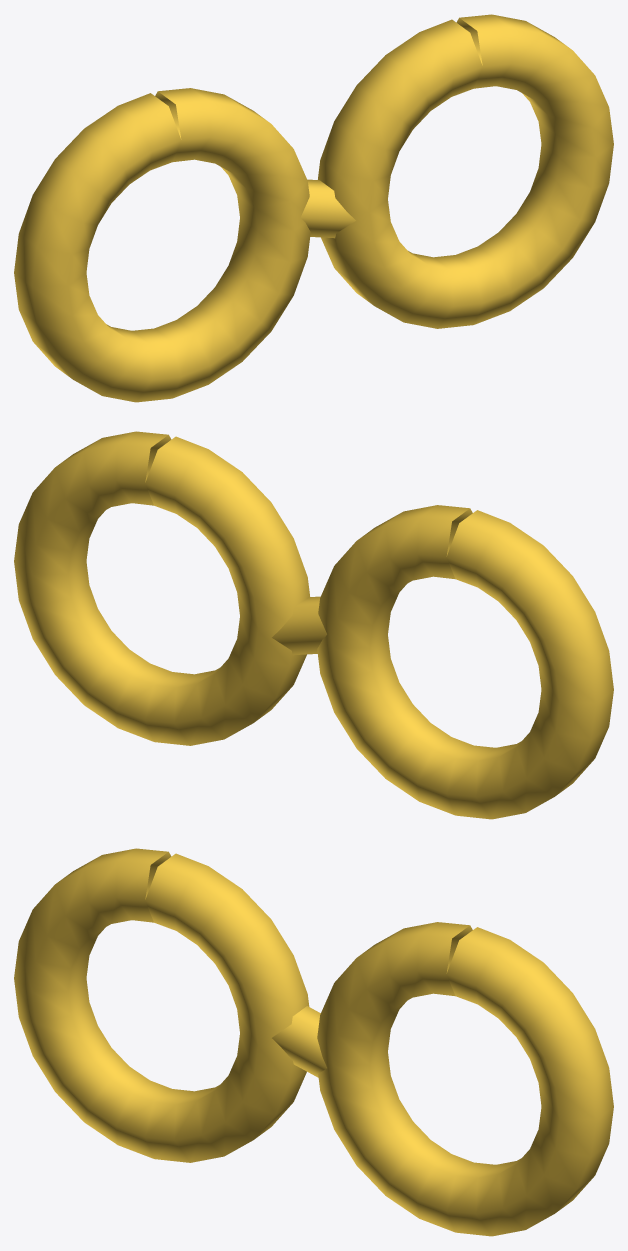
The model's file is status-arrested.glb.
The picture shows the model from 3 angles, top to bottom: view 1: azimuth 30°, elevation 25°; view 2: azimuth 150°, elevation 25°; view 3: azimuth 330°, elevation 25°; orthographic projection.
Visible parts, largest first — view 1: cuff, cuff.001, link; view 2: cuff, cuff.001, link; view 3: cuff.001, cuff, link.
Boxes of the visible parts, left/top/right/bottom form: cuff: left=14, top=88, right=310, bottom=402; cuff.001: left=318, top=14, right=613, bottom=328; link: left=301, top=179, right=355, bottom=238; cuff: left=317, top=505, right=613, bottom=819; cuff.001: left=14, top=431, right=309, bottom=745; link: left=272, top=596, right=326, bottom=655; cuff.001: left=317, top=922, right=613, bottom=1236; cuff: left=14, top=848, right=309, bottom=1162; link: left=272, top=1006, right=326, bottom=1077.
Size of the model in its own units: 0.9266 by 0.4462 by 0.1.
